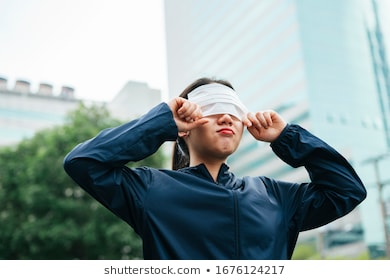mask_weared_incorrect: (188, 89, 246, 152)
